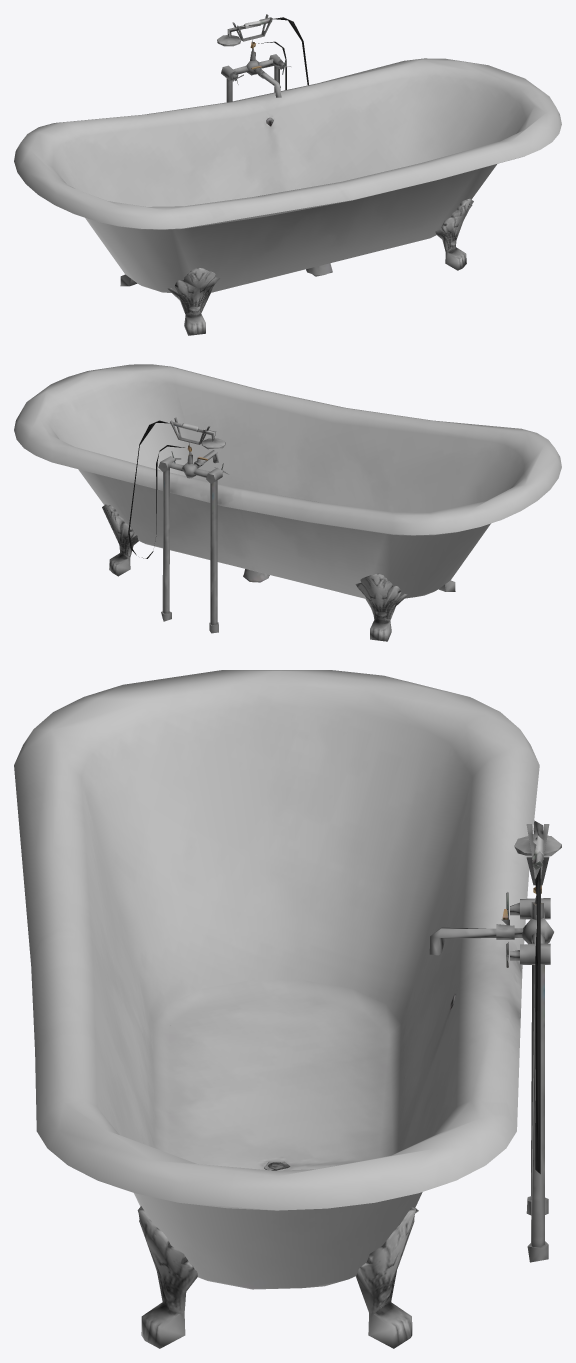
Rendered from bathtub.lod0.glb.
3 renders of one model, top to bottom at view 1: azimuth 30°, elevation 25°; view 2: azimuth 150°, elevation 25°; view 3: azimuth 270°, elevation 25°, orthographic. The views are drawn at different scales.
Parts seen in each view (by area): view 1: SM_Bathtub_Material #3_0; view 2: SM_Bathtub_Material #3_0; view 3: SM_Bathtub_Material #3_0.
Boxes of the visible parts, x1=… form: SM_Bathtub_Material #3_0: x1=14, y1=14, x2=561, y2=335; SM_Bathtub_Material #3_0: x1=14, y1=364, x2=561, y2=641; SM_Bathtub_Material #3_0: x1=14, y1=670, x2=561, y2=1348.
Size of the model in its own units: 1.7 by 0.6513 by 0.8154.
Materials: 1 (1 with a texture image).
